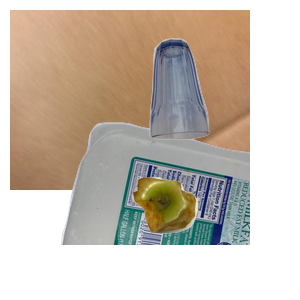cardboard: (10, 10, 250, 190)
glass: (147, 36, 300, 168)
plastic: (58, 120, 298, 300)
trash: (130, 175, 300, 300)
